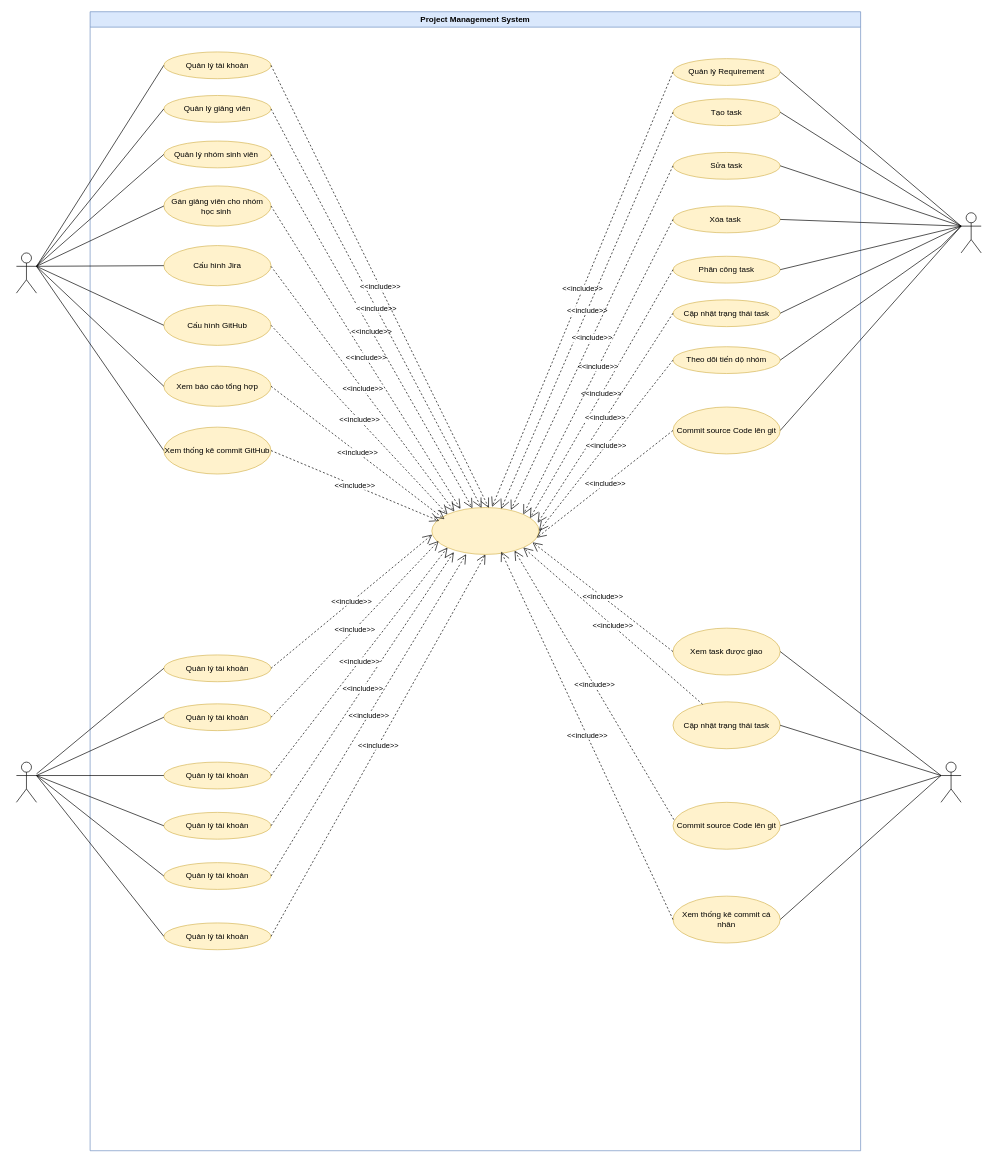
The diagram is 1004 pixels wide and 1162 high, and some of its shapes have lost their labels. The shapes that lost their labels are listed below. From the top down, each one's centre as x and y in pixels, then its label:
At (970,232): "Team leader".
At (26,272): "Admin".
At (485,530): "Đăng nhập".
At (26,781): "Lecturer".
At (950,781): "Team Member".
